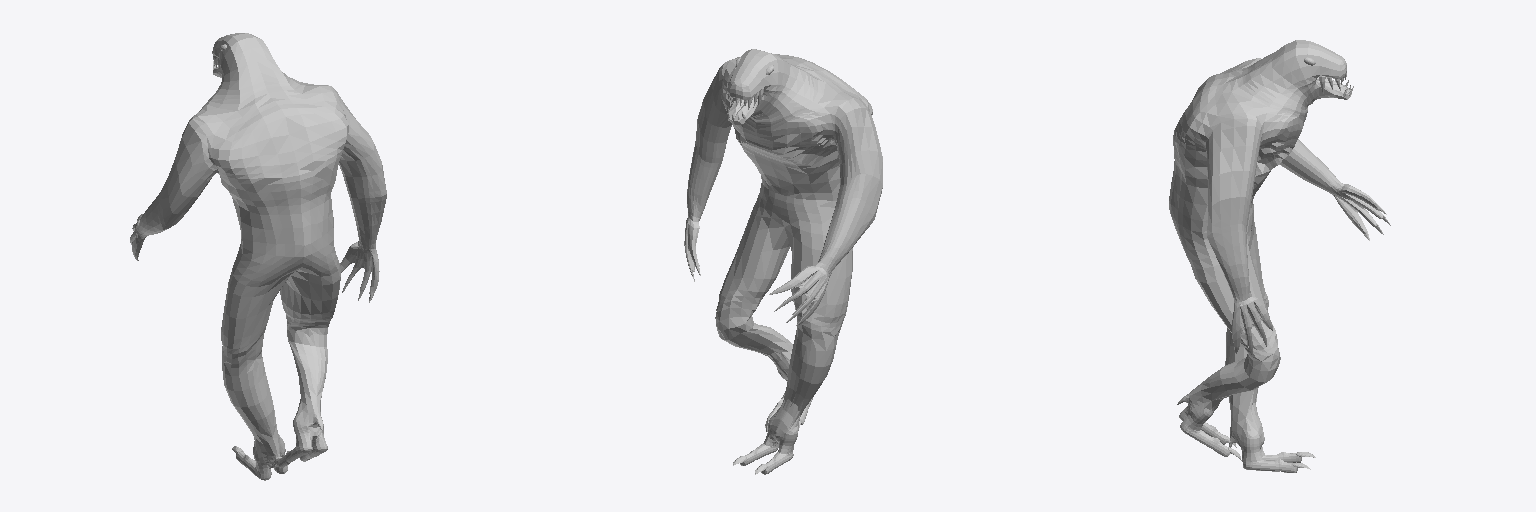
Rendered from Berserkerandar.0079.obj.
3 renders of one model, left to right at view 1: azimuth 30°, elevation 25°; view 2: azimuth 150°, elevation 25°; view 3: azimuth 270°, elevation 25°, orthographic.
Visible parts, largest first — view 1: polySurface27; view 2: polySurface27; view 3: polySurface27.
Boxes of the visible parts, box(x1,y1,x2,y2) form: polySurface27: box(130, 33, 386, 480); polySurface27: box(684, 49, 882, 474); polySurface27: box(1169, 40, 1390, 472).
Bounding box in the file's own units: 11.91 × 23.89 × 11.35.